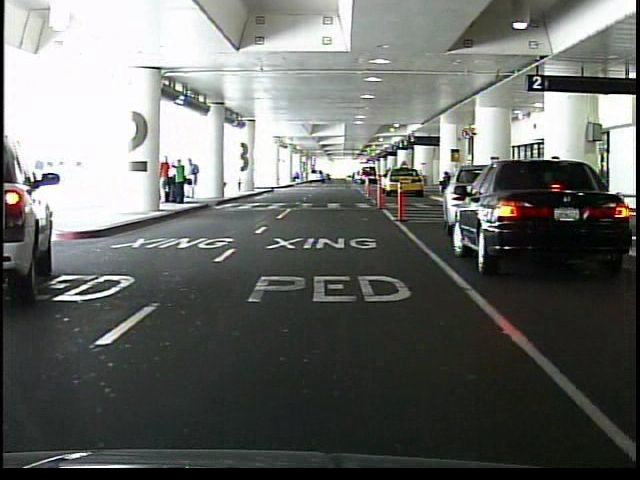person: (161, 154, 174, 205), (173, 160, 187, 205), (186, 159, 199, 201)
